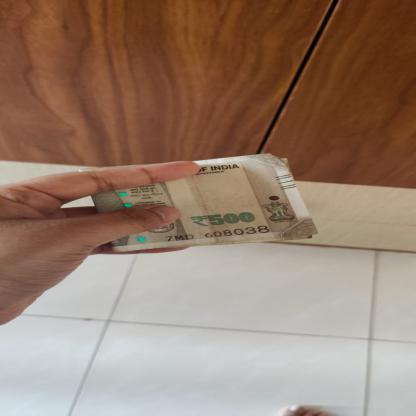New500Front: (76, 152, 322, 253)
